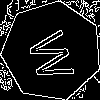W: (26, 26, 85, 85)
